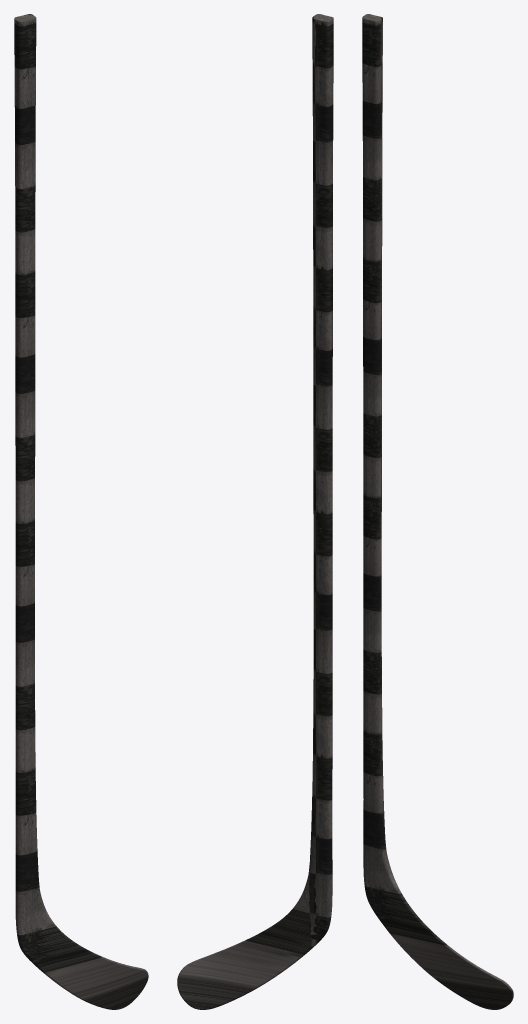
The model's file is P92-SBO.glb.
The picture shows the model from 3 angles, left to right: view 1: azimuth 30°, elevation 25°; view 2: azimuth 150°, elevation 25°; view 3: azimuth 330°, elevation 25°; orthographic projection. The views are drawn at different scales.
Visible parts, largest first — view 1: geometry_0; view 2: geometry_0; view 3: geometry_0.
Part boxes in pixels (left/top/right/bottom): geometry_0: left=14, top=14, right=148, bottom=1009; geometry_0: left=177, top=14, right=333, bottom=1009; geometry_0: left=362, top=14, right=513, bottom=1009.
Size of the model in its own units: 243 by 1650 by 56.38.
Materials: 1 (1 with a texture image).
